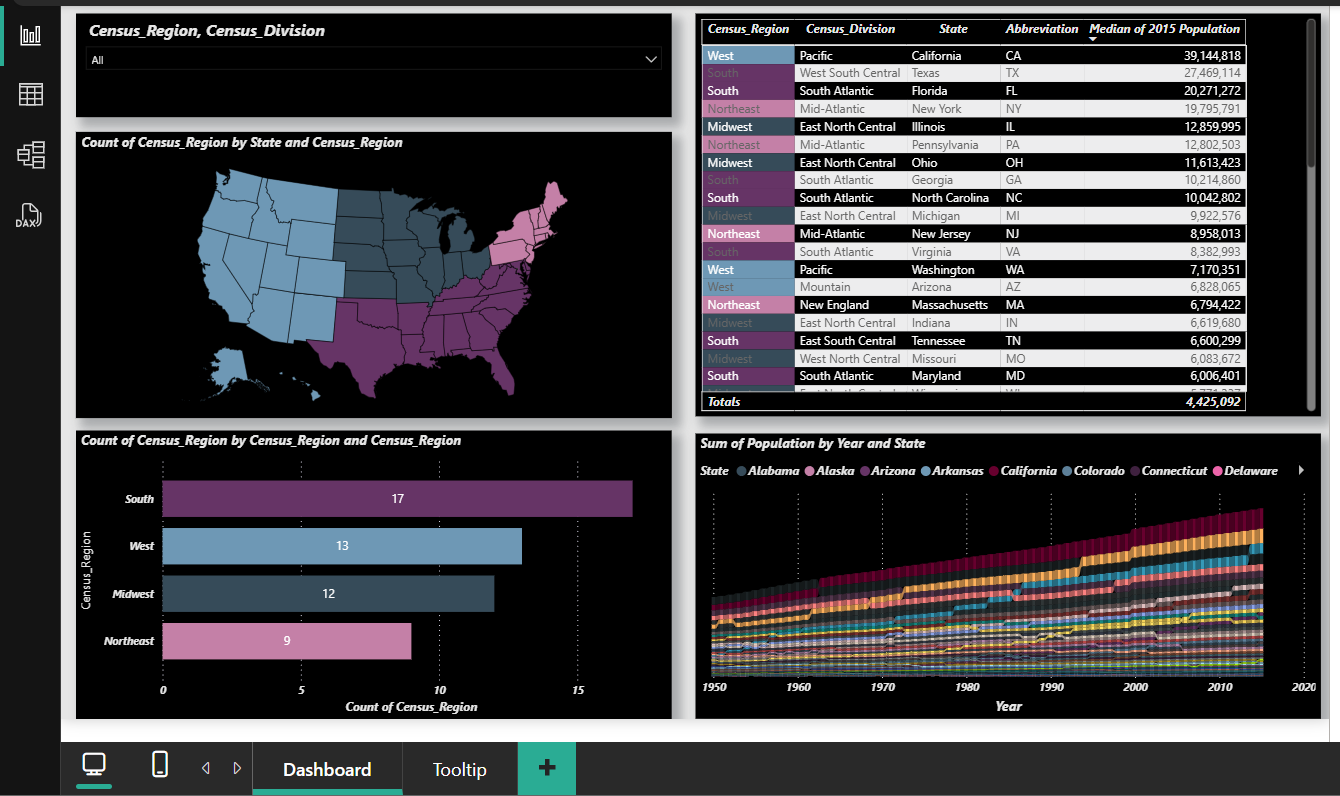

The page's visual inventory and layout, read from the dashboard file:
{"tool":"powerbi","page":{"name":"Dashboard","canvas":[1280,720],"ordinal":0},"visuals":[{"type":"tableEx","title":"US STATES","fields":{"Values":["States.Census Area.Census_Region","States.Census Area.Census_Division","States.State","States.abbreviation","States.2015 Population"]},"box":[640.1,7.9,631.3,406.5],"z":0},{"type":"shapeMap","fields":{"Category":["States.State"],"Series":["States.Census_Region"],"Value":["CountNonNull(States.Census_Region)"]},"box":[15.8,126.4,601.5,288.9],"z":1000},{"type":"barChart","fields":{"Category":["States.Census_Region"],"Y":["CountNonNull(States.Census_Region)"],"Series":["States.Census_Region"]},"box":[15.8,428.5,601.5,291.5],"z":2000},{"type":"slicer","fields":{"Values":["States.Census Area.Census_Region","States.Census Area.Census_Division"]},"box":[15.8,7.9,601.5,104.5],"z":3000},{"type":"ribbonChart","fields":{"Category":["states-population.Year"],"Series":["States.State"],"Y":["Sum(states-population.Population)"]},"box":[640.1,432,631.3,288],"z":4000}]}

Visuals, with their boxes in screenshot pixels (x1, y1, x2, y2):
"US STATES" tableEx: select_region(690, 8, 1318, 413)
shapeMap - States.State x States.Census_Region: select_region(68, 126, 667, 414)
barChart - States.Census_Region x CountNonNull(States.Census_Region): select_region(68, 427, 667, 717)
slicer - States.Census Area.Census_Region x States.Census Area.Census_Division: select_region(68, 8, 667, 112)
ribbonChart - states-population.Year x States.State: select_region(690, 430, 1318, 717)
